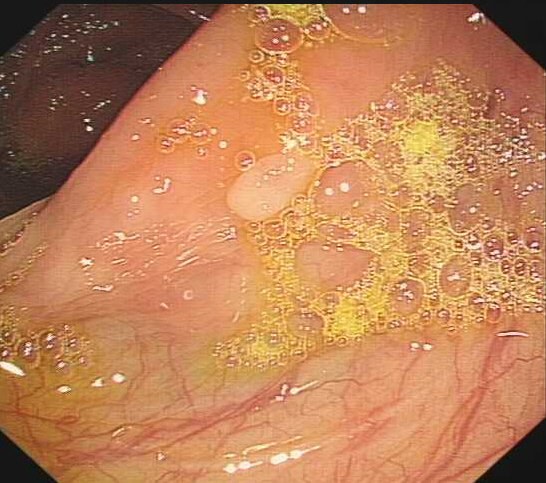adenoma: (220, 147, 322, 221)
